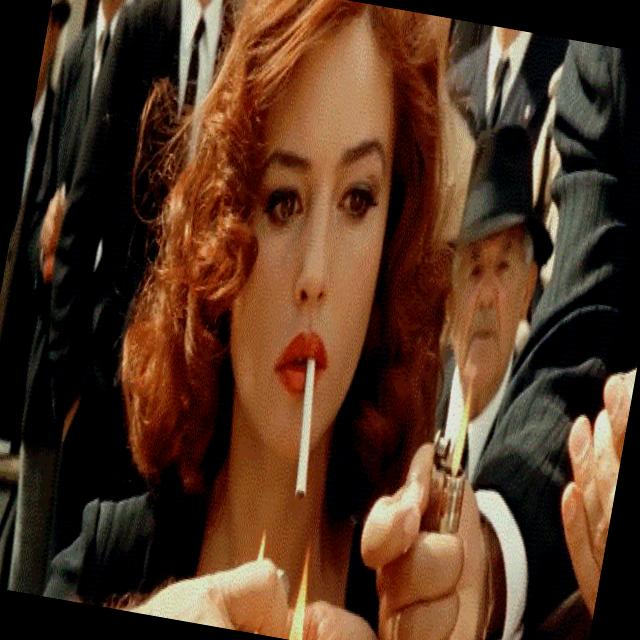cigarette: (279, 347, 334, 506)
